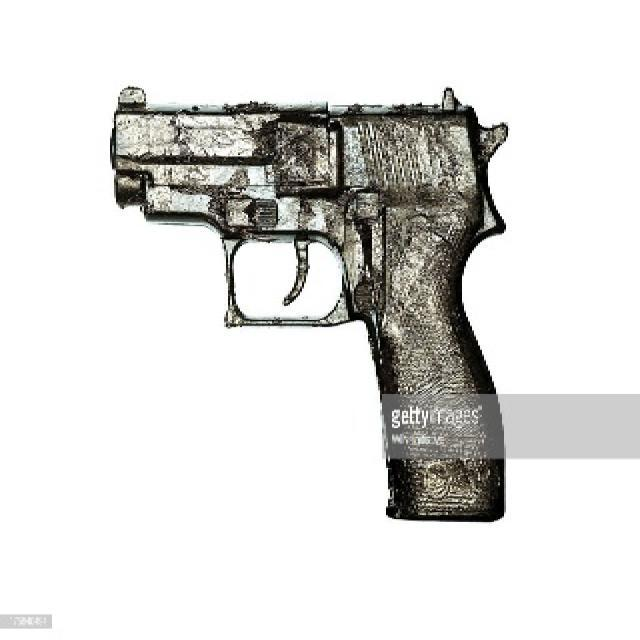weapon: (102, 74, 516, 524)
